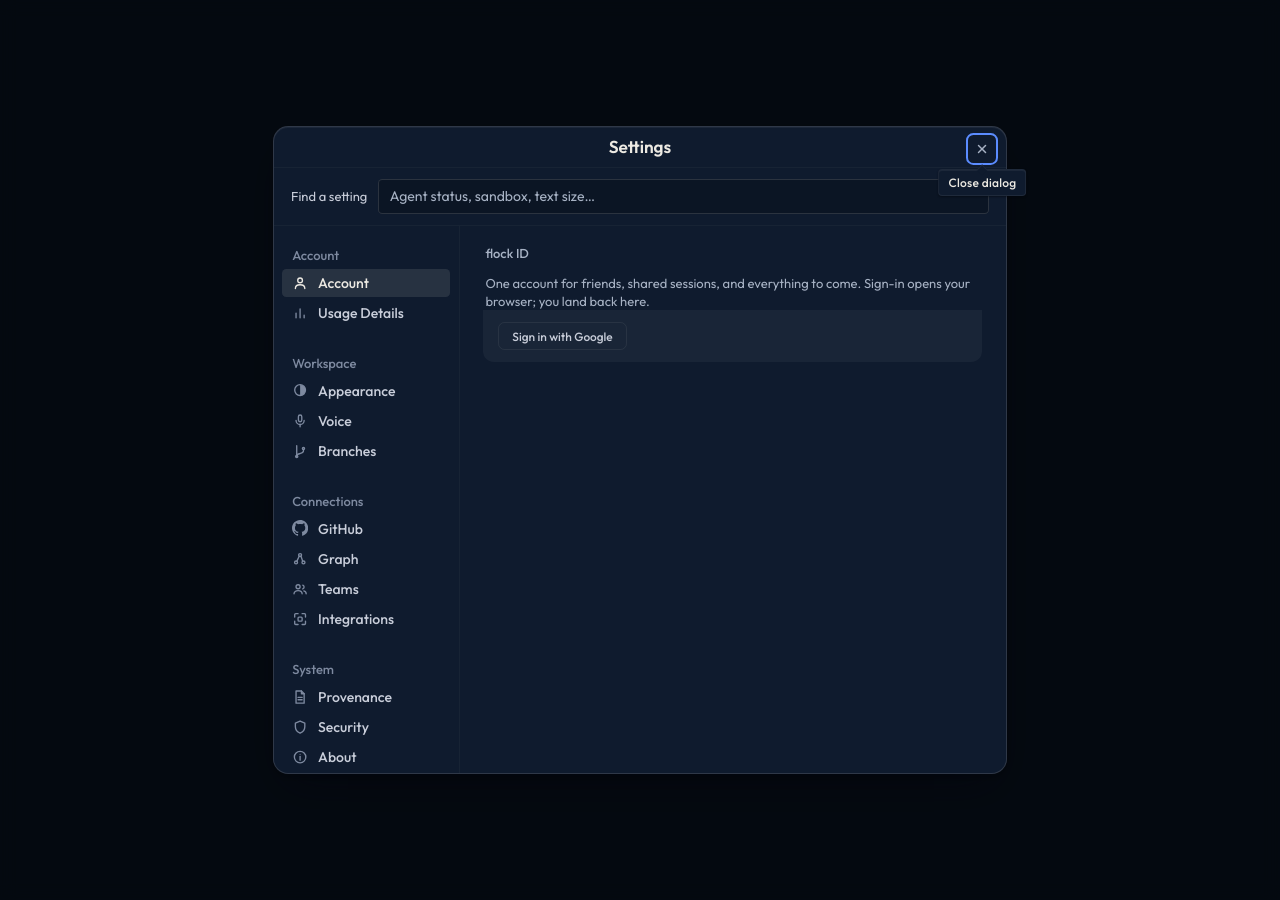
Test: Settings search navigation › switches to desktop audio only after saving and preserves the microphone picker
Click the tab "Voice" at point(366, 421), box [282, 407, 450, 435]
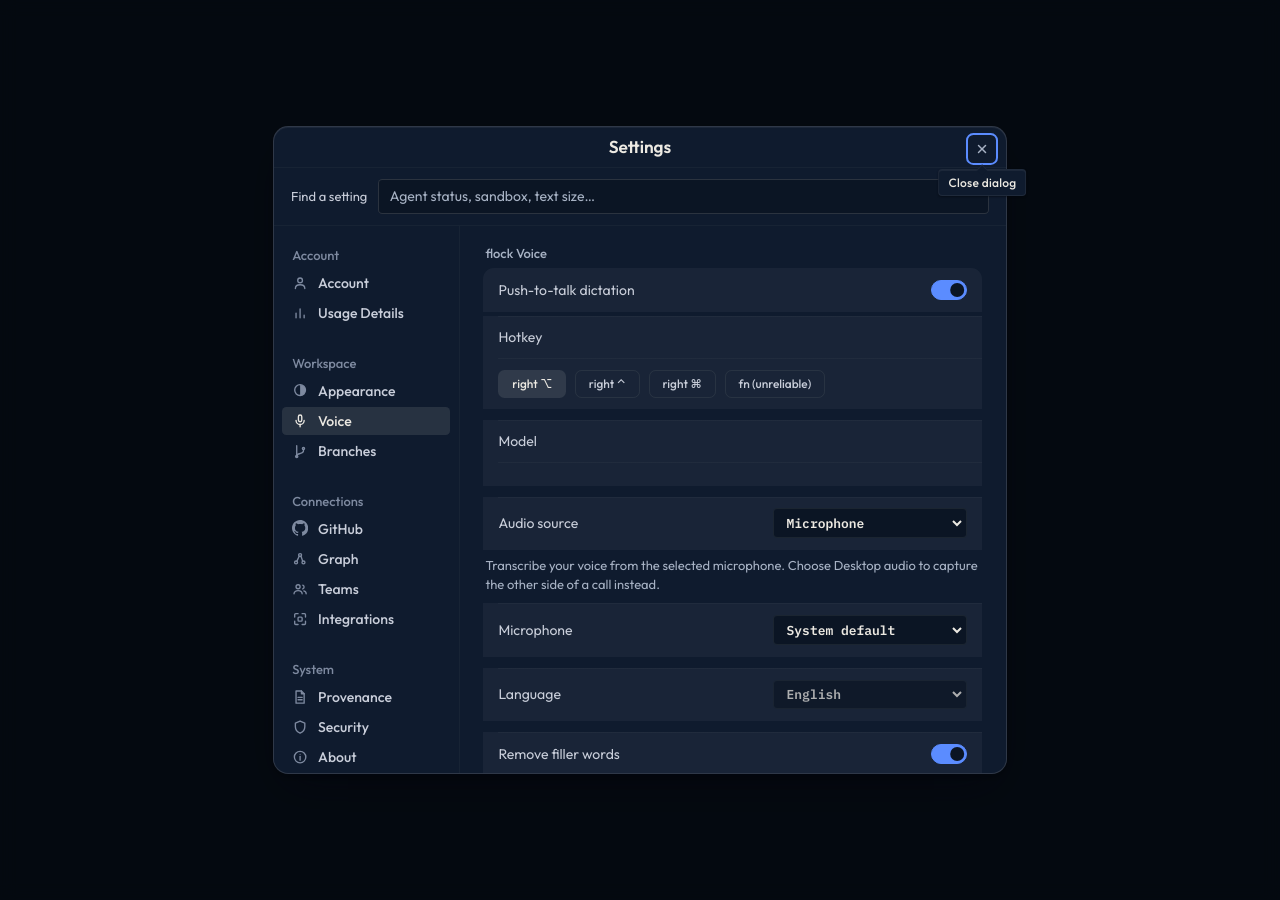
expect the dropdown labelled "Microphone" is shown: met, box [773, 615, 967, 645]
Select "Desktop audio" in the dropdown labelled "Audio source" at point(870, 523), box [773, 508, 967, 538]
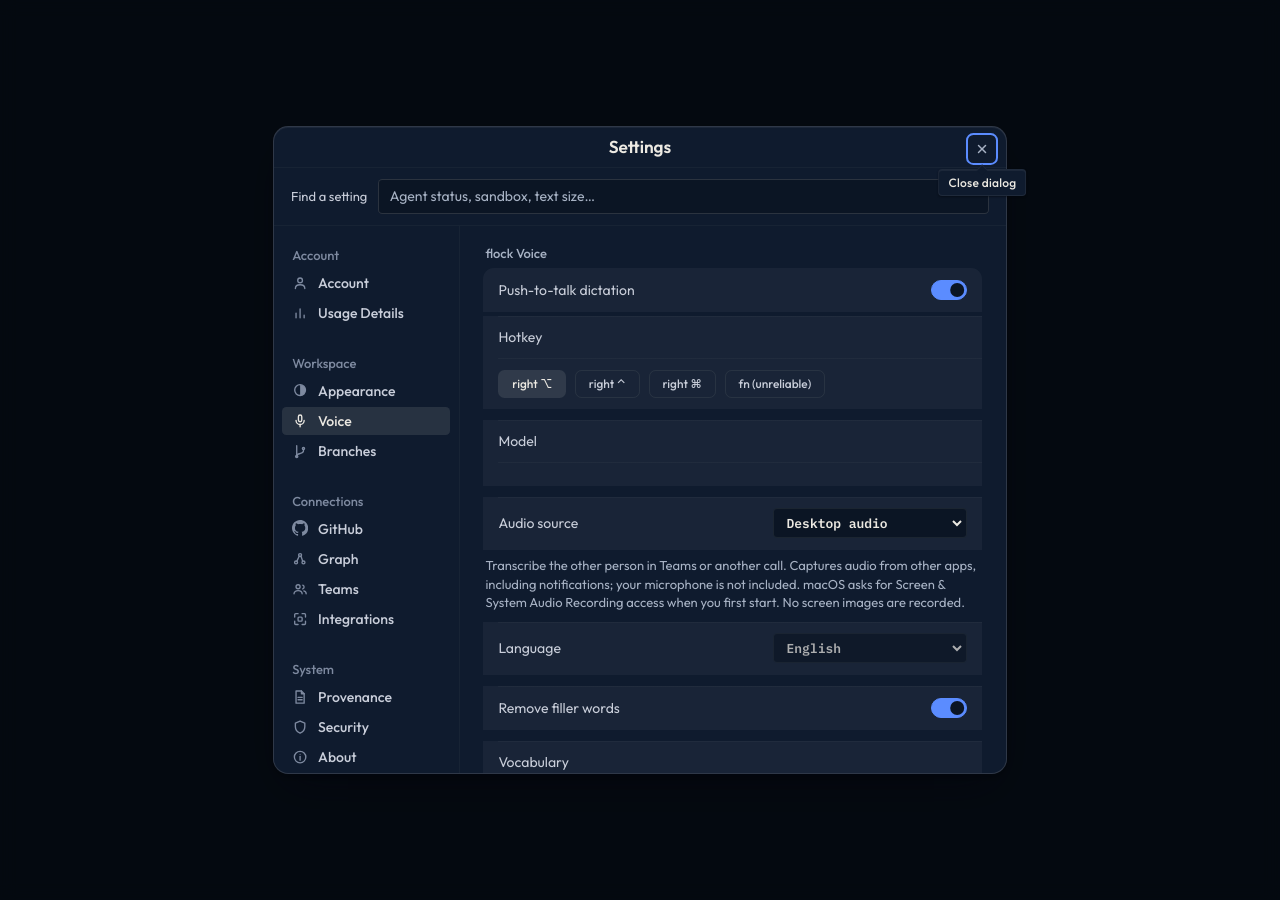
expect the dropdown labelled "Microphone" is not shown: met
expect the text "Transcribe the other person in Teams" is shown: met, box [486, 557, 976, 610]
Select "Microphone" in the dropdown labelled "Audio source" at point(870, 523), box [773, 508, 967, 538]
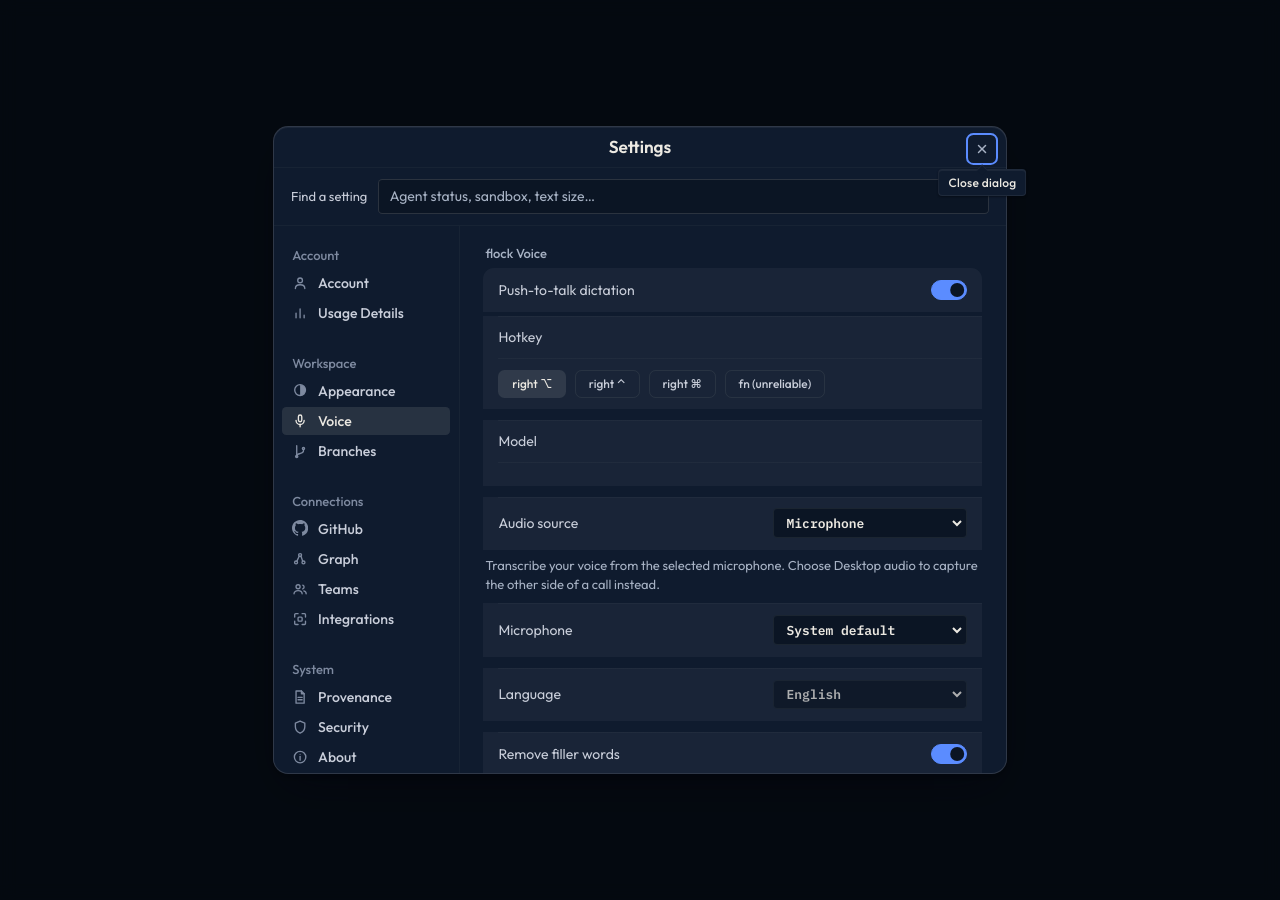
expect the dropdown labelled "Microphone" is shown: met, box [773, 615, 967, 645]
